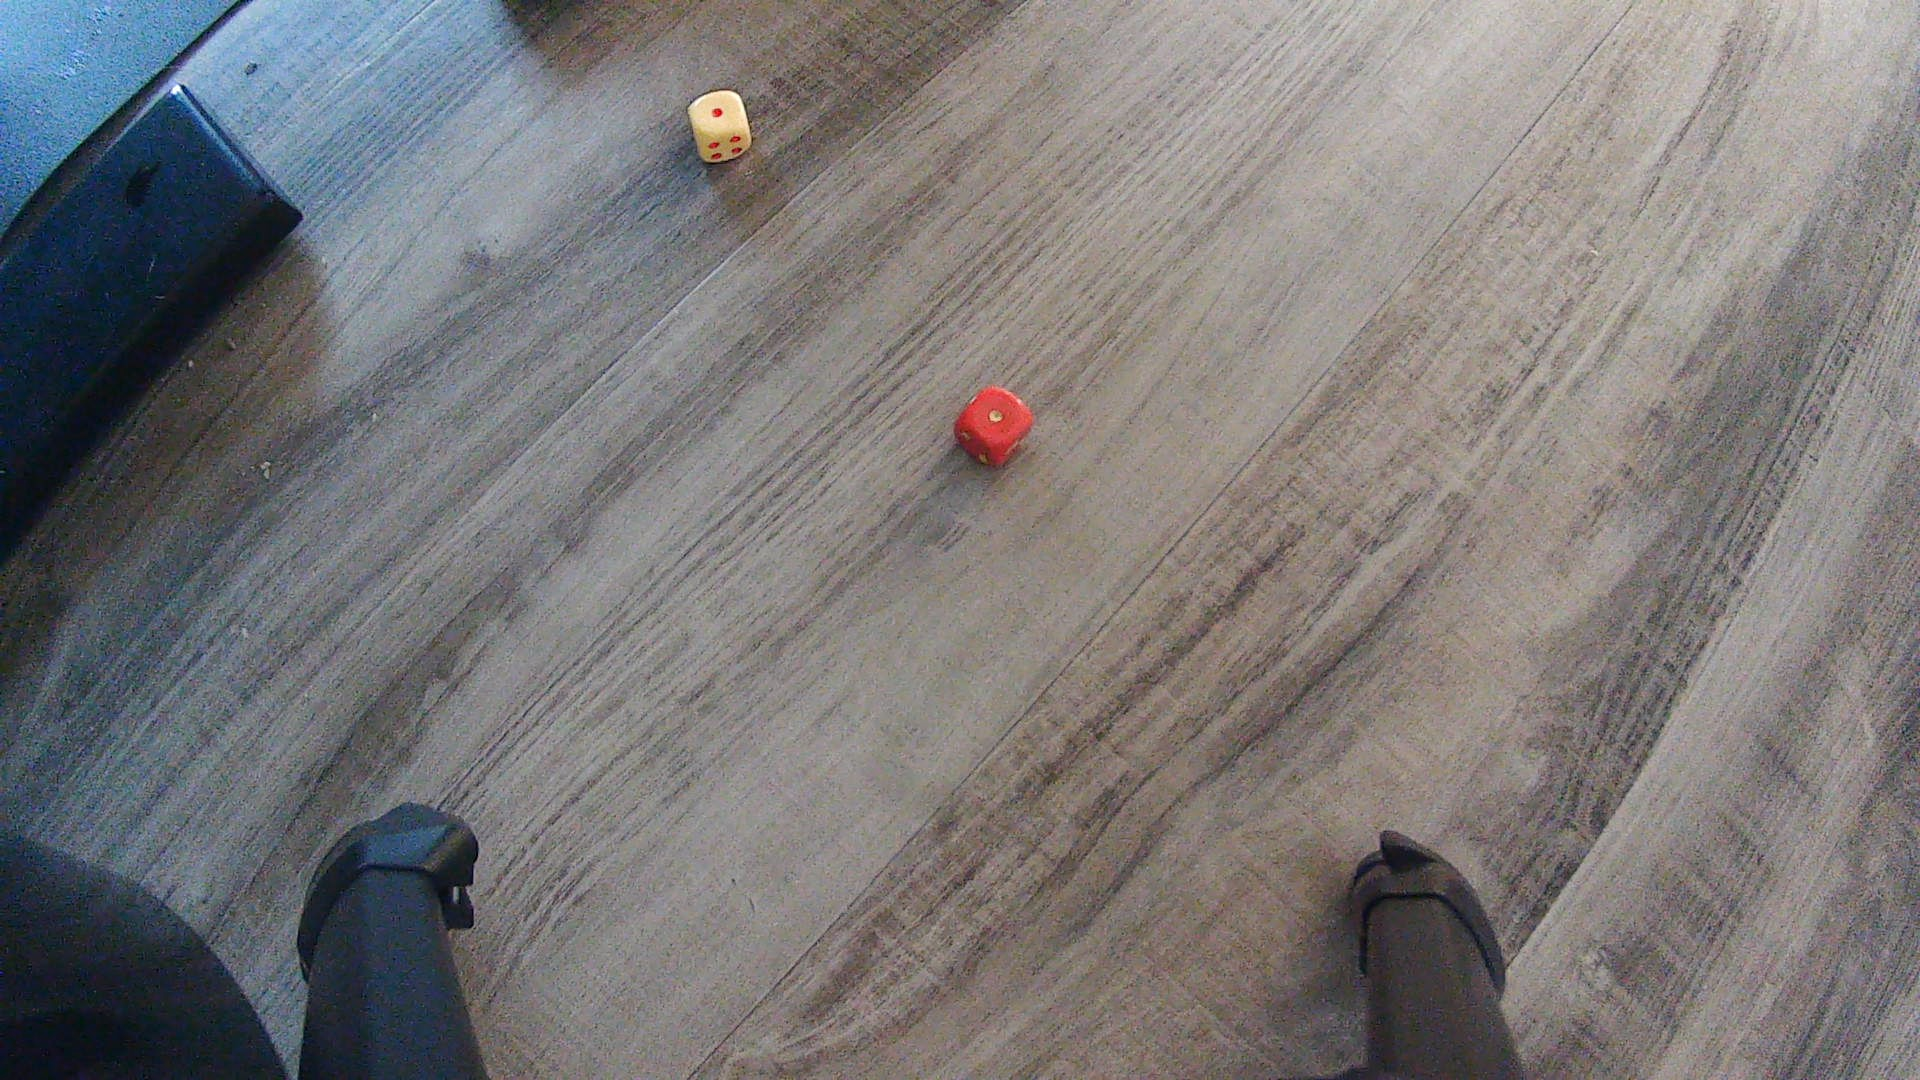die: (952, 384, 1036, 469), (684, 87, 752, 164)
